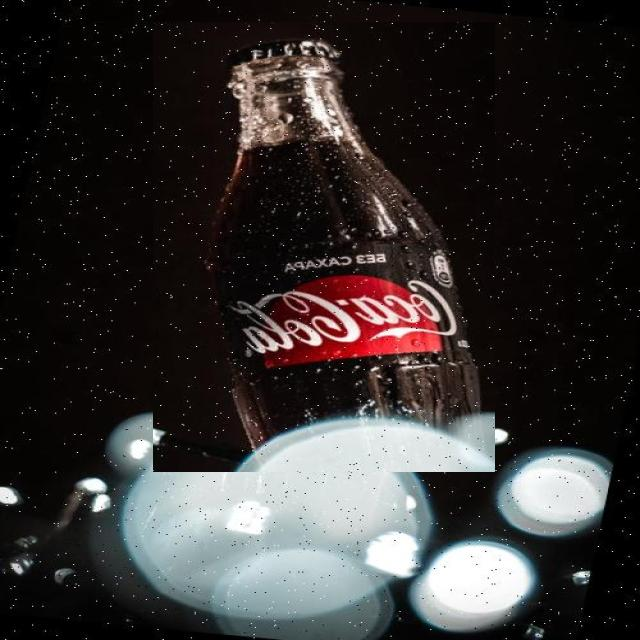coca-cola: (154, 22, 496, 472)
